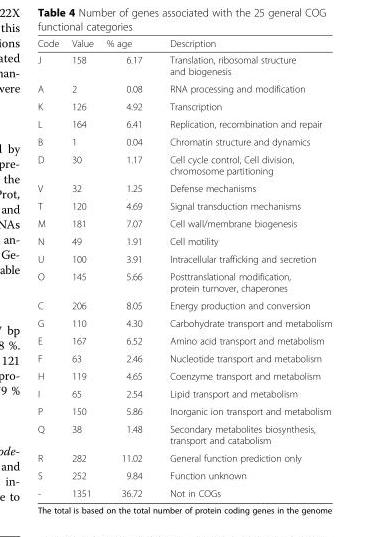table: (36, 37, 331, 498)
table column: (155, 37, 331, 498), (99, 37, 155, 498), (64, 37, 99, 498), (36, 37, 64, 498)
table column header: (36, 37, 331, 51)
table row: (36, 150, 331, 179), (36, 267, 331, 296), (36, 419, 331, 448), (36, 51, 331, 79), (36, 79, 331, 97), (36, 114, 331, 132), (36, 132, 331, 150), (36, 196, 331, 214), (36, 214, 331, 232), (36, 249, 331, 267), (36, 296, 331, 314), (36, 331, 331, 349), (36, 366, 331, 384), (36, 384, 331, 402), (36, 448, 331, 466), (36, 466, 331, 484), (36, 97, 331, 114), (36, 179, 331, 196), (36, 232, 331, 249), (36, 314, 331, 331), (36, 349, 331, 366), (36, 402, 331, 419), (36, 37, 331, 51), (36, 484, 331, 498)
